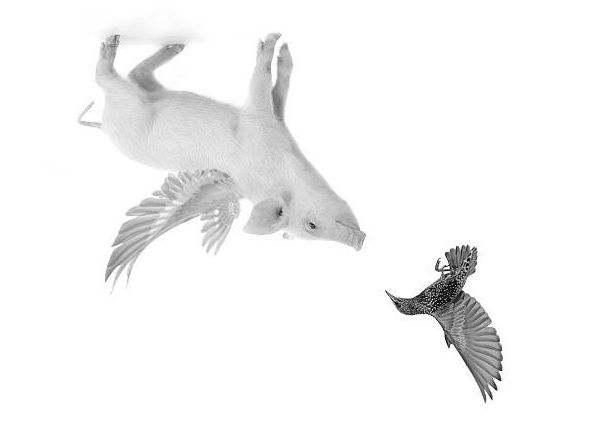Bird: (378, 243, 507, 404)
